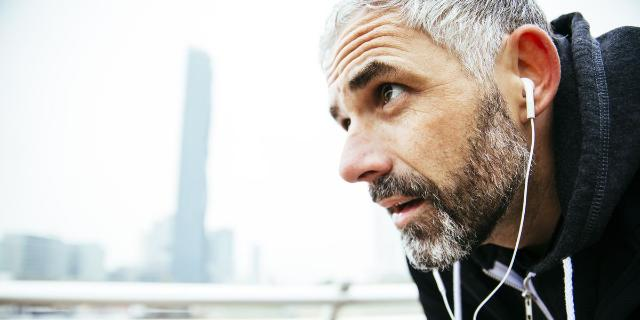forehead: (363, 21, 393, 51), (334, 37, 358, 71)
